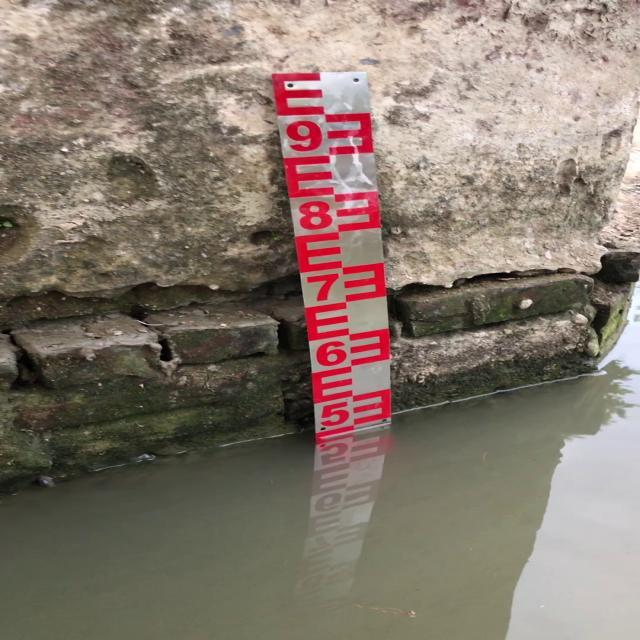ruler: (265, 57, 402, 454)
value: (275, 109, 333, 162), (288, 194, 342, 237), (302, 263, 348, 306), (304, 334, 355, 371), (316, 395, 358, 431)
